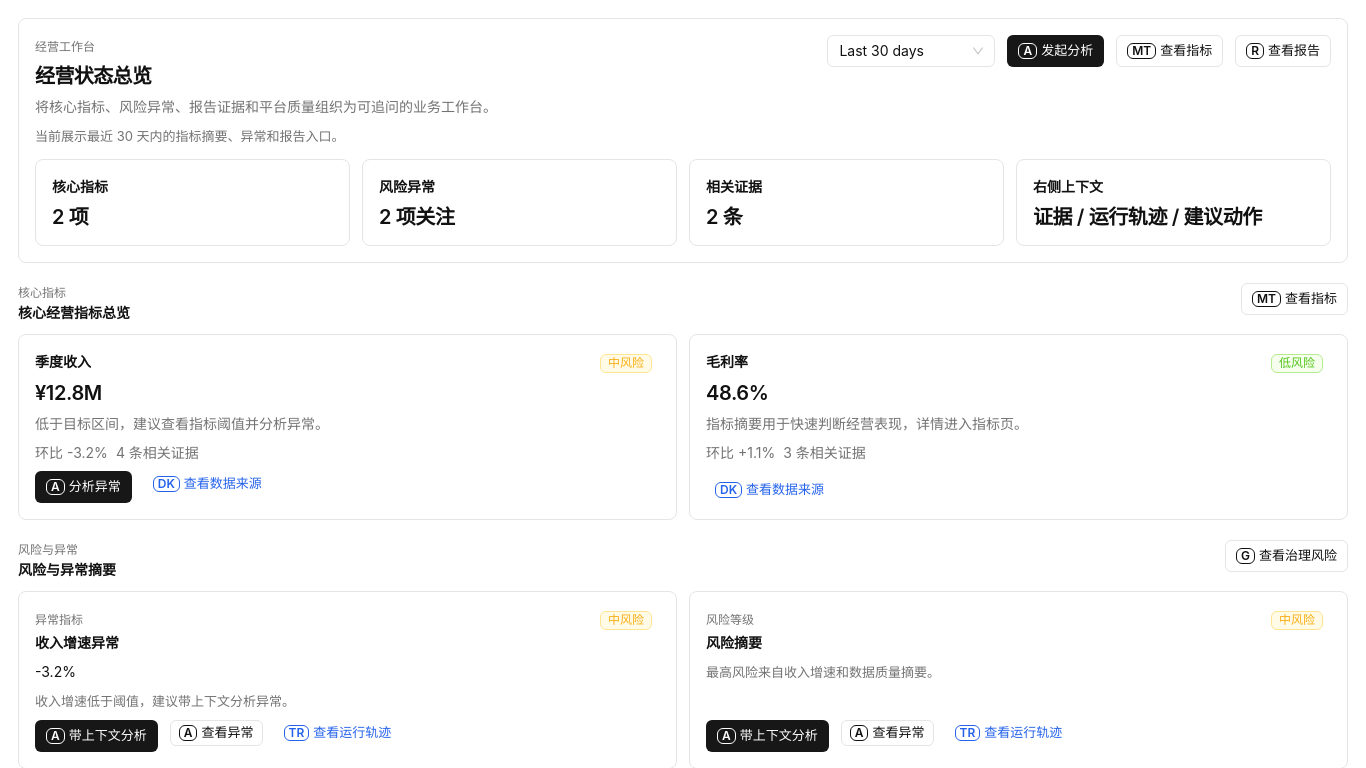
Scenario: DashboardPage › renders the default time range and updates the static summary without navigation
Expected: the text "当前展示最近 30 天内的指标摘要、异常和报告入口。" is shown, x1=35 y1=128 x2=344 y2=144
Press the mouse on the dropdown named "Dashboard time range" at (882, 50), box x1=839 y1=42 x2=924 y2=59
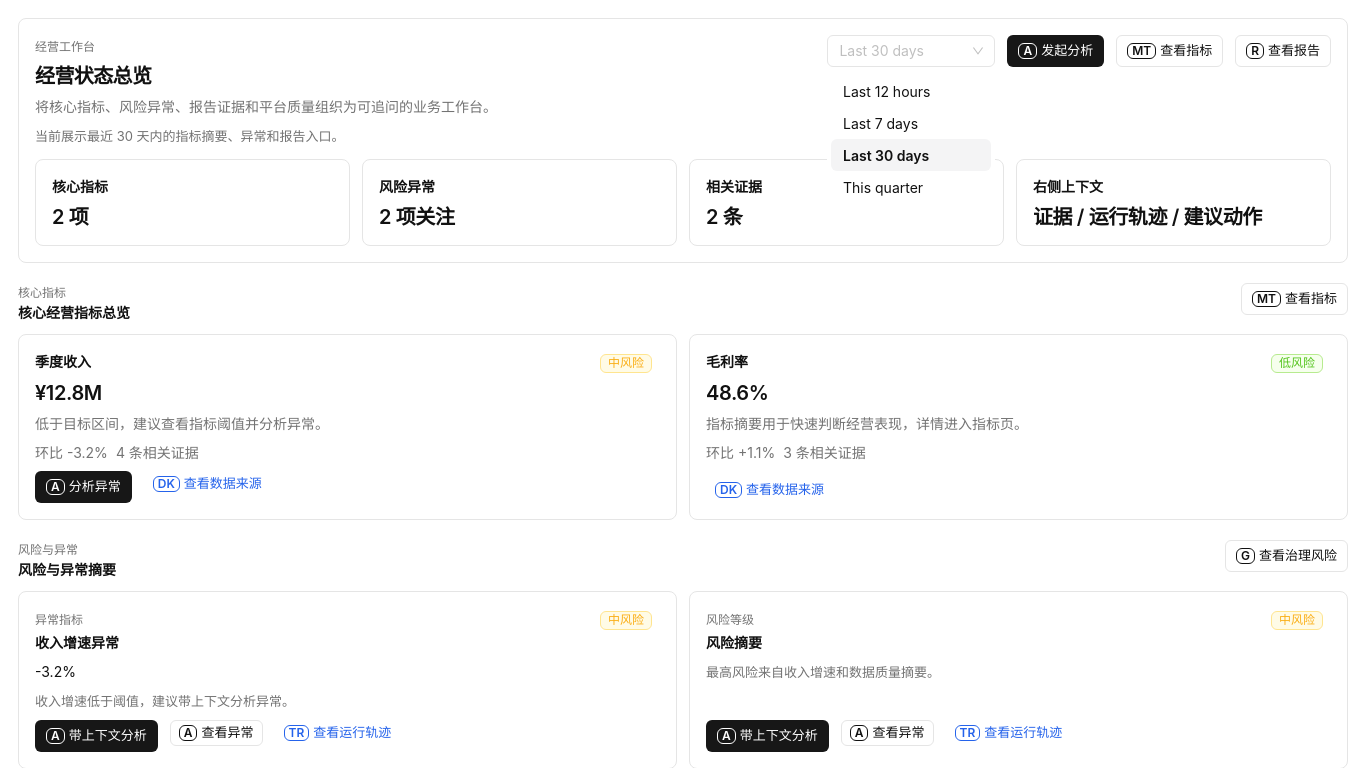
Click the option "Last 7 days" at (880, 123), box x1=843 y1=114 x2=918 y2=132
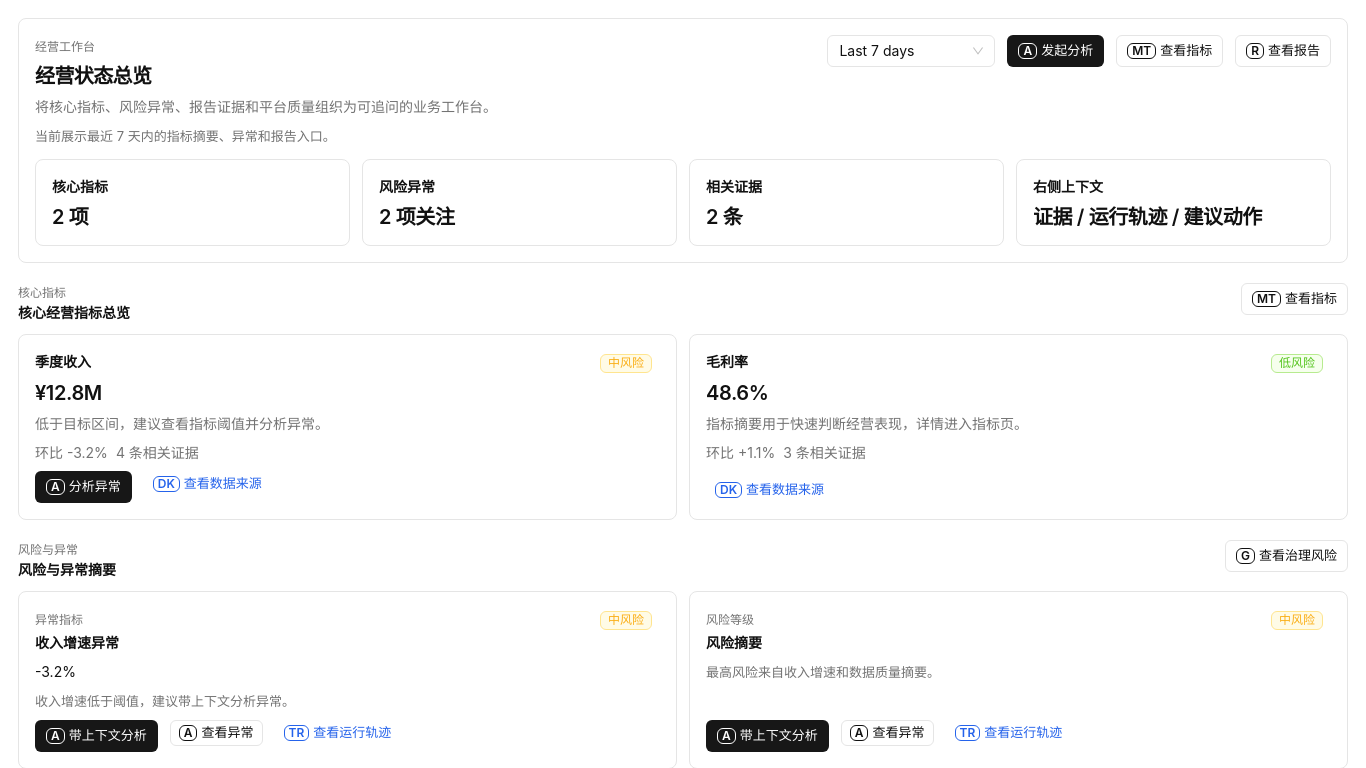
Now the text "当前展示最近 7 天内的指标摘要、异常和报告入口。" is shown, box x1=35 y1=128 x2=336 y2=144
